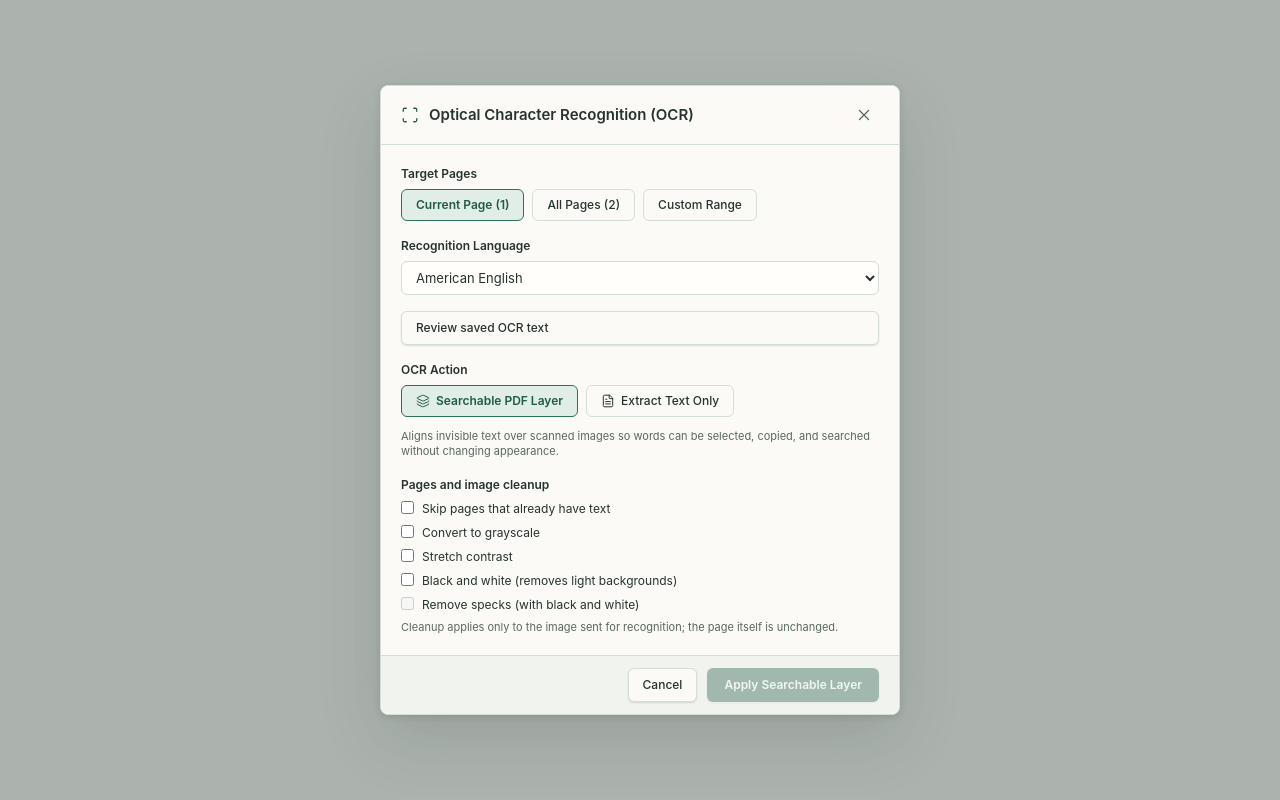
it: OcrPanel › disables recognition without a real browser engine
Click the button "Extract Text Only" at x=660, y=401, box [586,385,734,417]
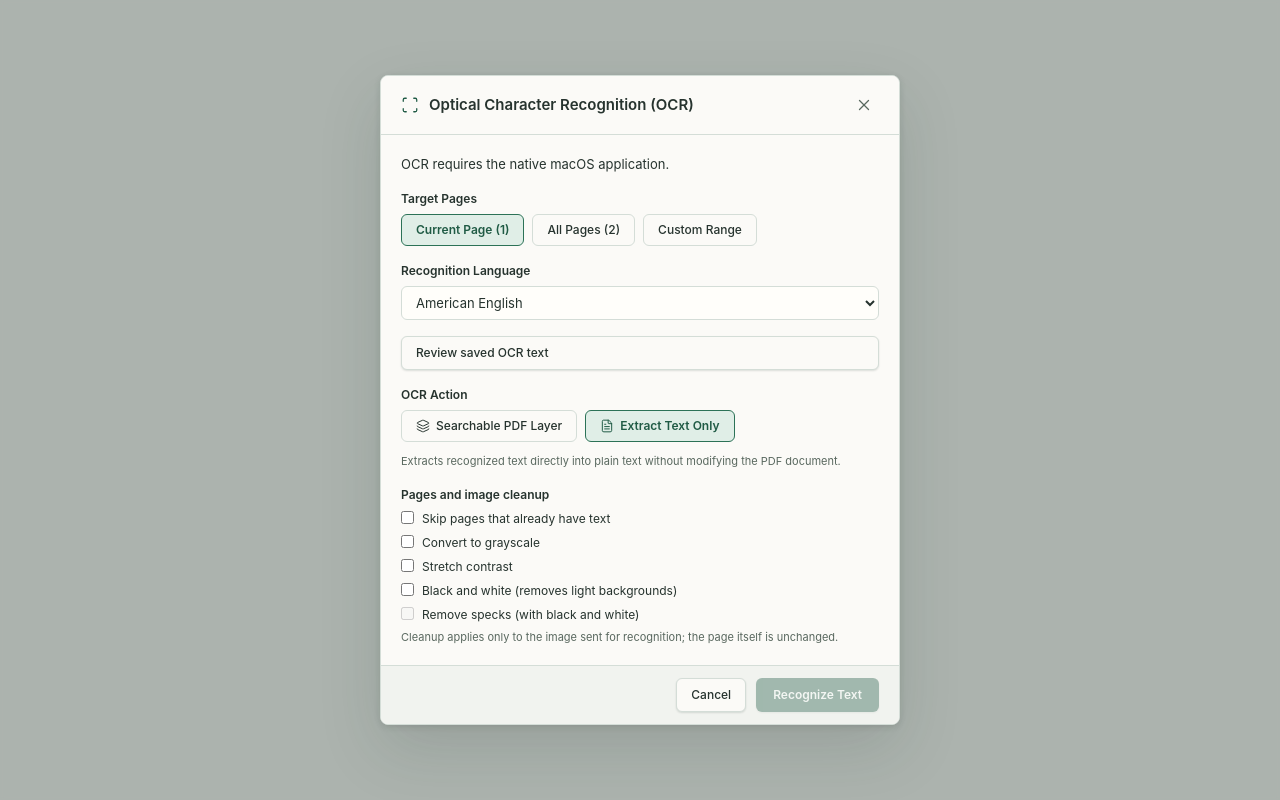
Expected: the button "Recognize Text" is disabled, [756,678,879,712]
Result: the text "OCR requires the native macOS application." is shown at [401,156,669,172]
